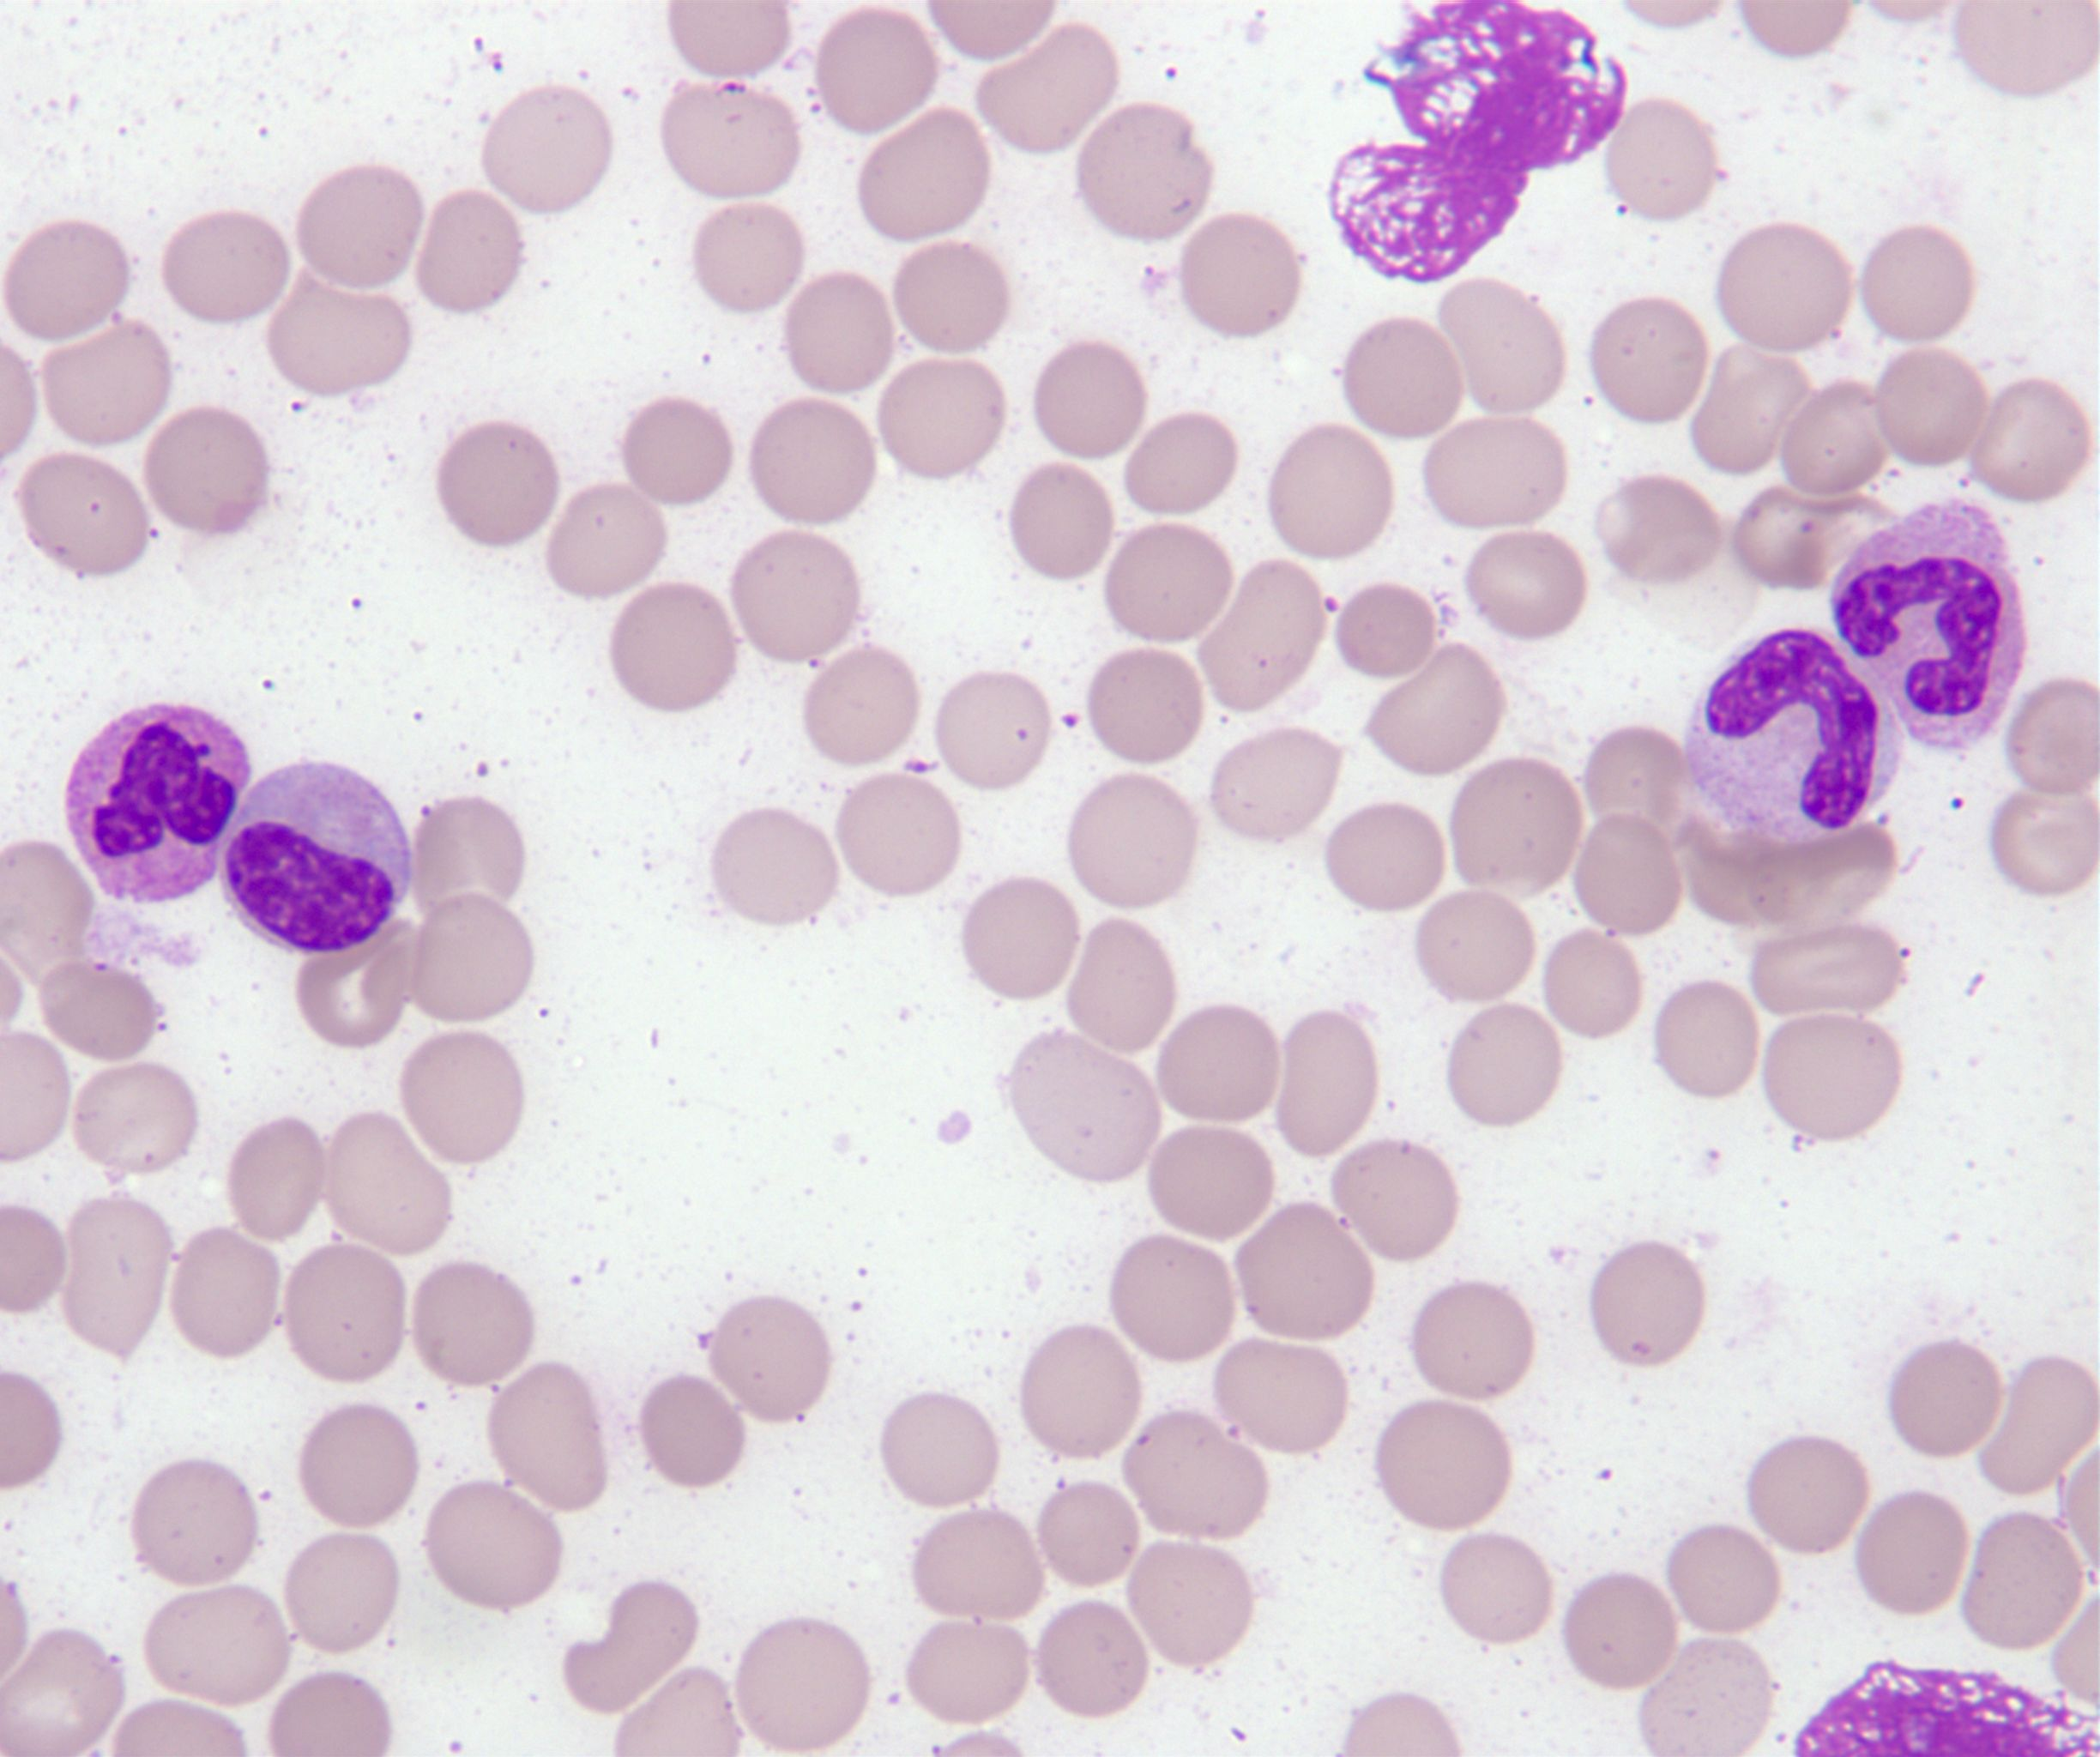3: (218, 762, 410, 953)
5: (1833, 501, 2025, 750), (1687, 628, 1903, 843), (63, 705, 251, 902)
x: (1331, 0, 1626, 281)
